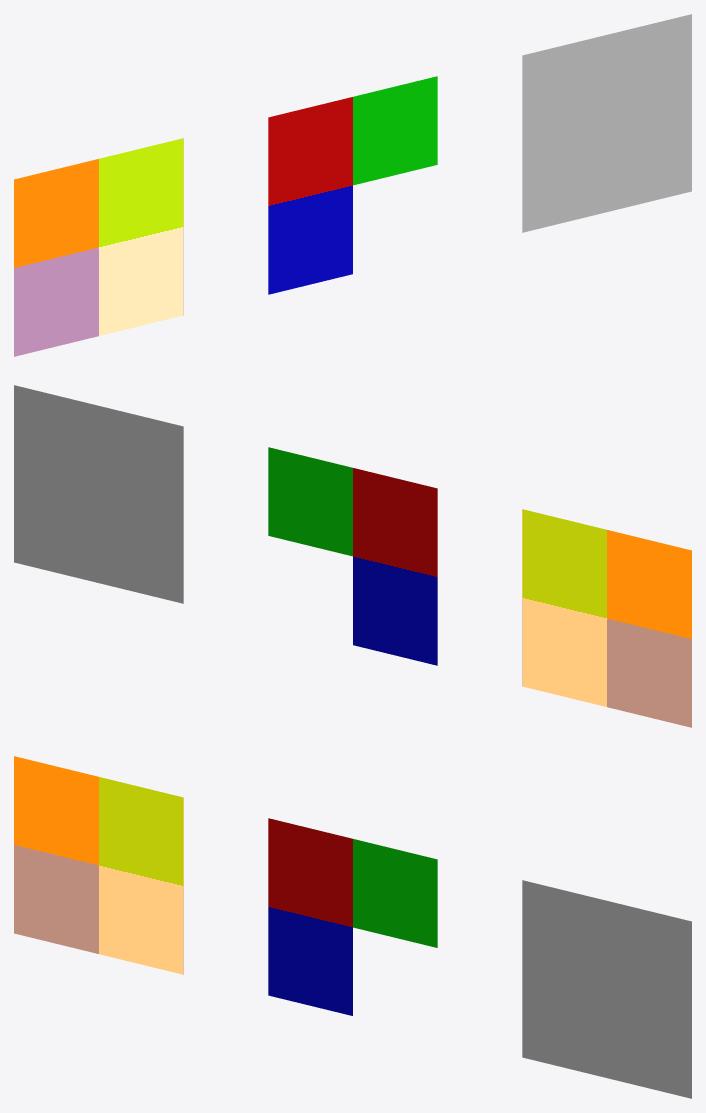
Rendered from Materials.gltf.
3 renders of one model, top to bottom at view 1: azimuth 30°, elevation 25°; view 2: azimuth 150°, elevation 25°; view 3: azimuth 330°, elevation 25°, orthographic.
Parts seen in each view (by area): view 1: Panel; view 2: Panel; view 3: Panel.
Part boxes in pixels (left/top/right/bottom): Panel: left=14, top=14, right=691, bottom=356; Panel: left=14, top=385, right=691, bottom=727; Panel: left=14, top=756, right=691, bottom=1098.
Size of the model in its own units: 4 by 1 by 0.
2 materials, 2 textured.
